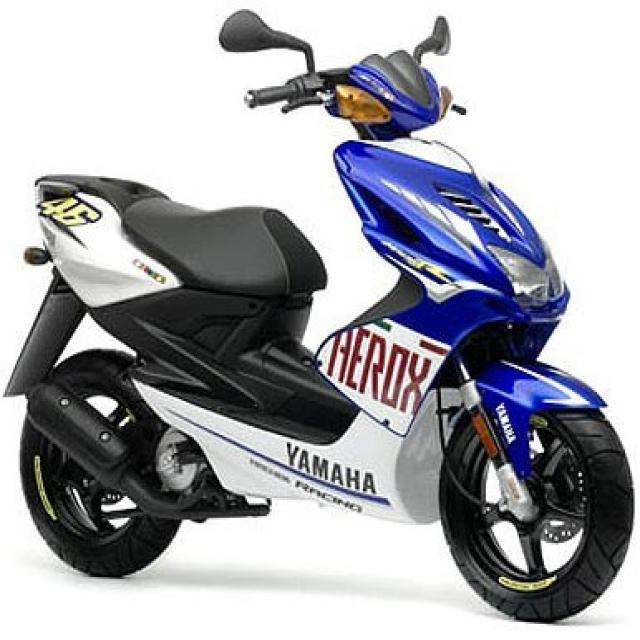Motorcycle: (7, 11, 635, 621)
